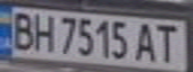1: (90, 17, 112, 59)
5: (109, 18, 133, 61), (75, 16, 96, 57)
7: (54, 13, 78, 55)
A: (133, 19, 160, 63)
B: (6, 9, 39, 51)
H: (30, 11, 57, 52)
T: (151, 20, 184, 64)
